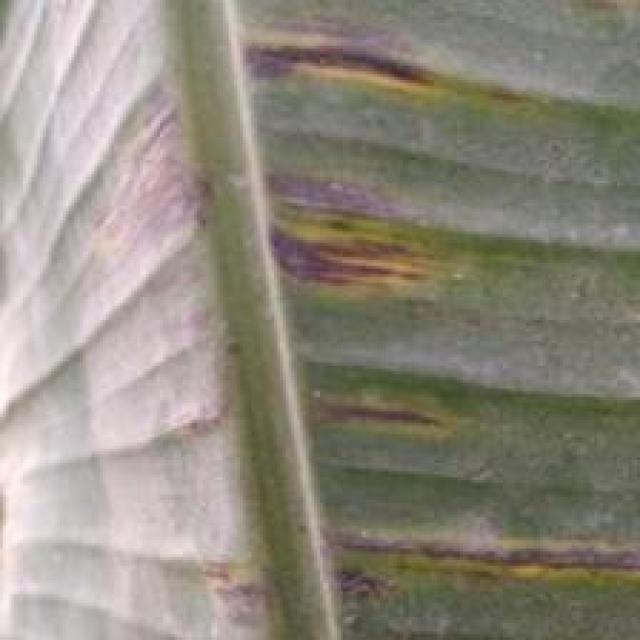Early_leaf_spot: (58, 67, 242, 449), (308, 491, 640, 637), (210, 147, 430, 338), (219, 6, 456, 99), (288, 382, 474, 491), (166, 516, 282, 627)
